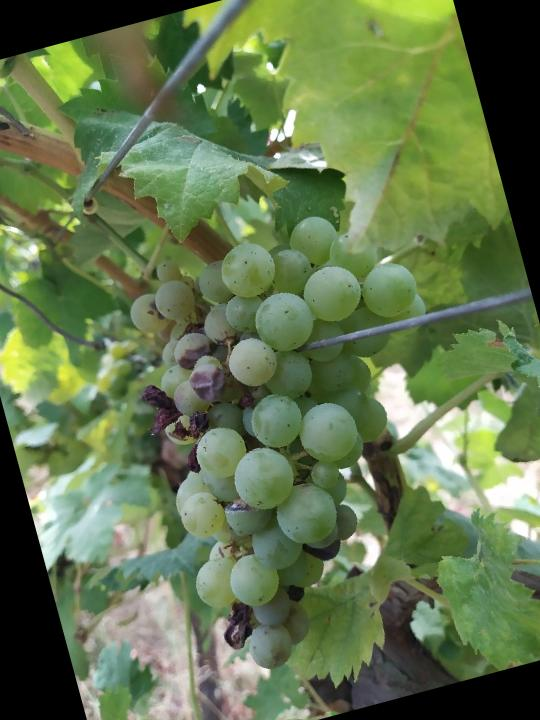grape: (102, 190, 510, 688)
